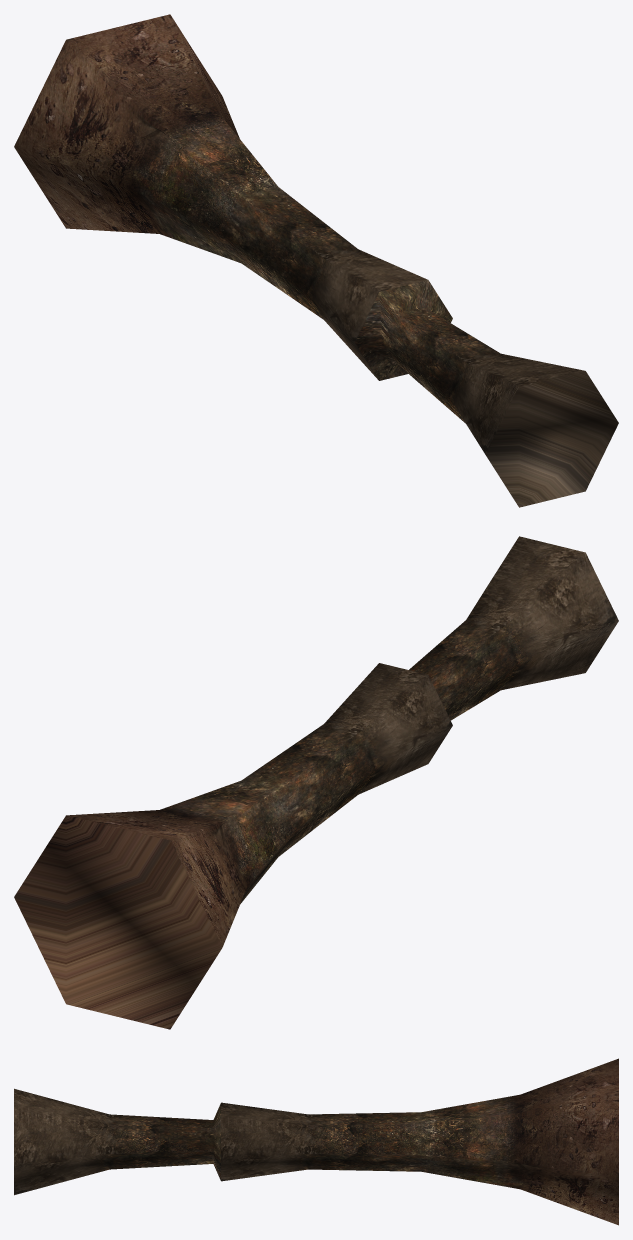
File: rock-pillar_12.obj
3 renders of one model, top to bottom at view 1: azimuth 30°, elevation 25°; view 2: azimuth 150°, elevation 25°; view 3: azimuth 270°, elevation 25°, orthographic. The views are drawn at different scales.
Parts seen in each view (by area): view 1: (null); view 2: (null); view 3: (null).
Boxes of the visible parts, x1=… form: (null): x1=14, y1=14, x2=618, y2=507; (null): x1=14, y1=536, x2=618, y2=1029; (null): x1=14, y1=1058, x2=618, y2=1225.
Size of the model in its own units: 3.38 by 2.93 by 12.21.
